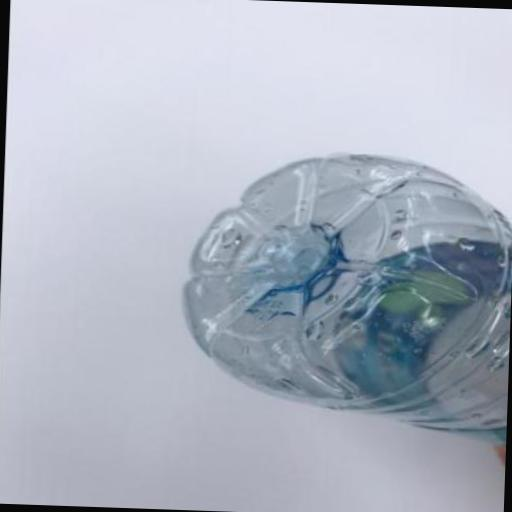plastic: (173, 146, 512, 467)
